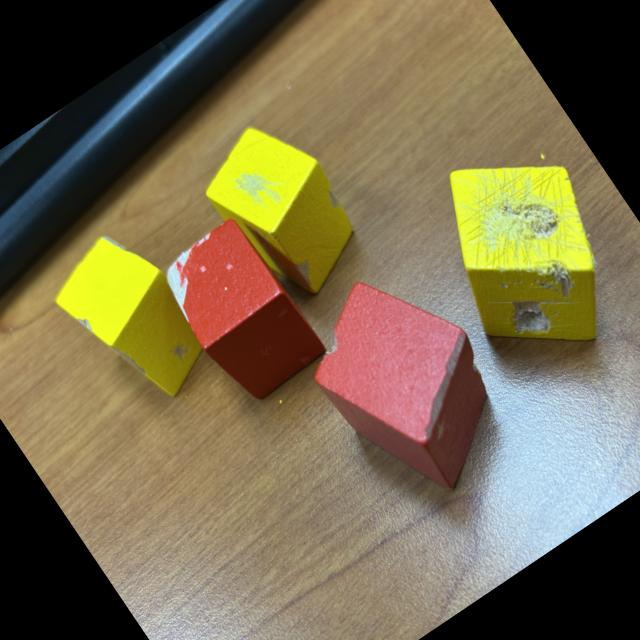broken: (283, 248, 536, 520), (398, 116, 640, 390), (186, 104, 381, 316), (40, 218, 226, 423), (149, 213, 331, 412)
